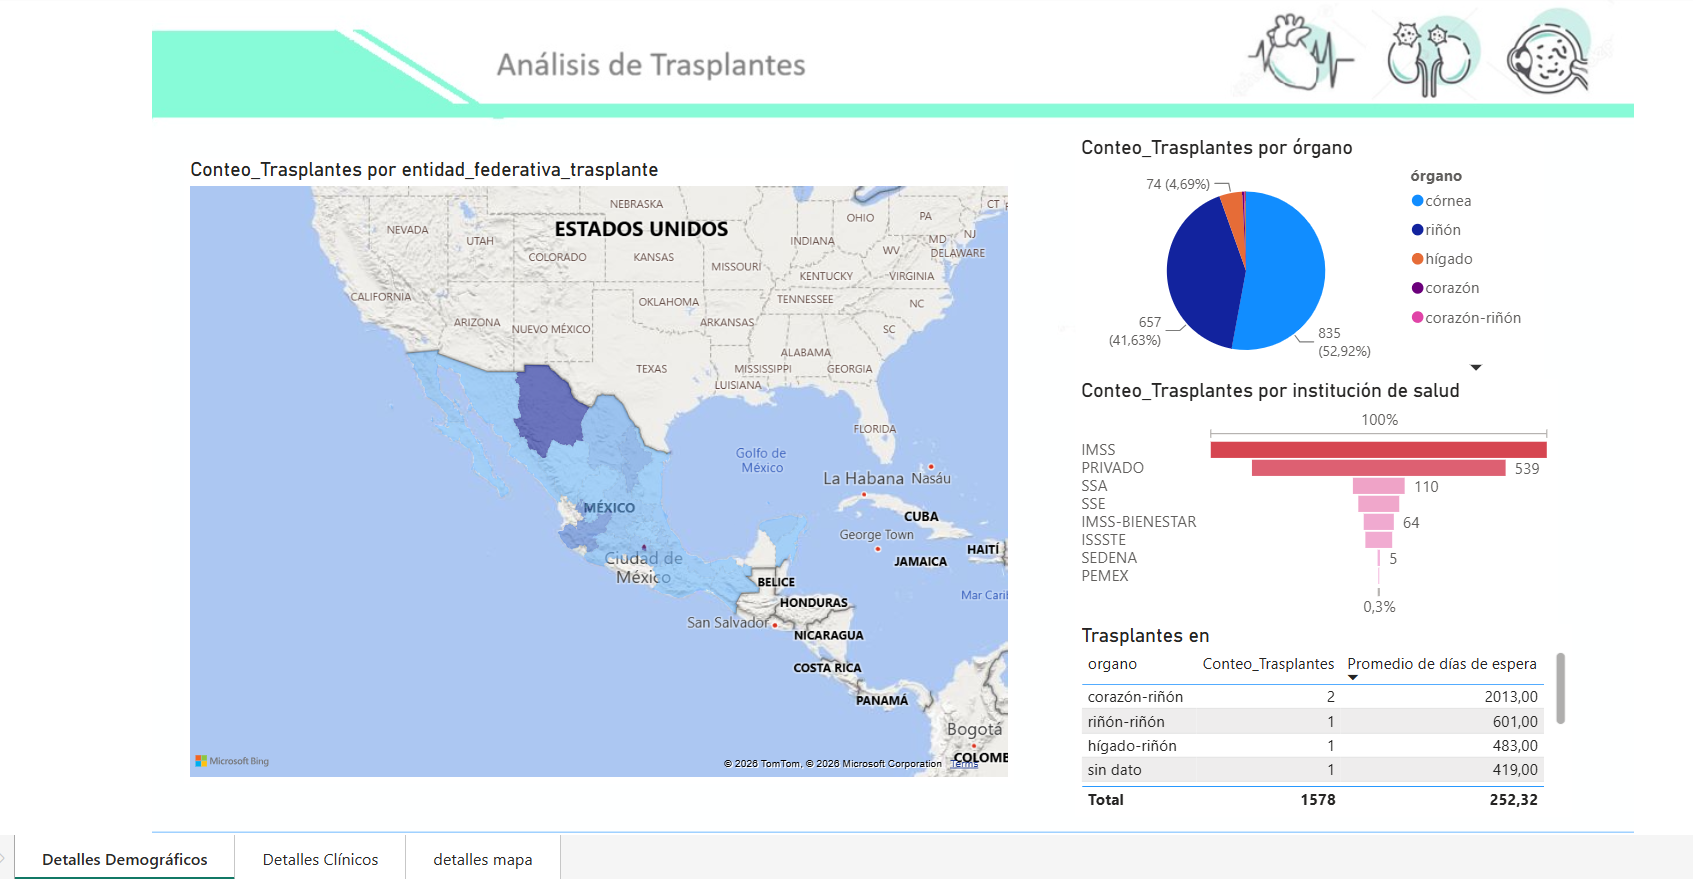

What the dashboard file says about the page in this screenshot:
{"tool":"powerbi","page":{"name":"Detalles Demográficos","canvas":[1280,720],"ordinal":0},"visuals":[{"type":"filledMap","fields":{"Category":["CENATRA_30_Trasplantes1erTrimestre2025.entidad_federativa_trasplante"]},"box":[28.2,136.2,716.2,540],"z":0},{"type":"tableEx","fields":{"Values":["Trasplantes.organo","Trasplantes.Conteo_Trasplantes","Avg(Trasplantes.trasplante_dias_espera)"]},"box":[797.6,538.4,428.7,166.2],"z":1000},{"type":"funnel","fields":{"Category":["Trasplantes.institucion"],"Y":["Trasplantes.Conteo_Trasplantes"]},"box":[797.6,327.3,417.1,211],"z":2000},{"type":"pieChart","fields":{"Category":["Trasplantes.organo"],"Y":["Trasplantes.Conteo_Trasplantes"]},"box":[797.6,118,405.4,212.7],"z":3000}]}

Visuals, with their boxes on the page's 1280x720 design canvas (x1, y1, x2, y2). These are canvas units, not pixel positions in the 1693x879 screenshot, which may show the page scaled, cropped or inside an application window:
filledMap - CENATRA_30_Trasplantes1erTrimestre2025.entidad_federativa_trasplante: BBox(28, 136, 744, 676)
tableEx - Trasplantes.organo x Trasplantes.Conteo_Trasplantes: BBox(798, 538, 1226, 705)
funnel - Trasplantes.institucion x Trasplantes.Conteo_Trasplantes: BBox(798, 327, 1215, 538)
pieChart - Trasplantes.organo x Trasplantes.Conteo_Trasplantes: BBox(798, 118, 1203, 331)
